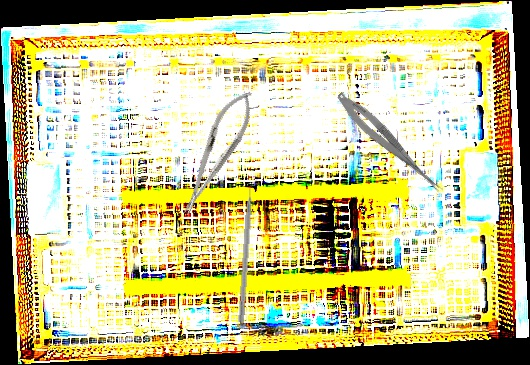Chopper: (237, 178, 263, 324)
Micro Scissor: (331, 88, 450, 198)
Needle Holder: (170, 83, 263, 222)
